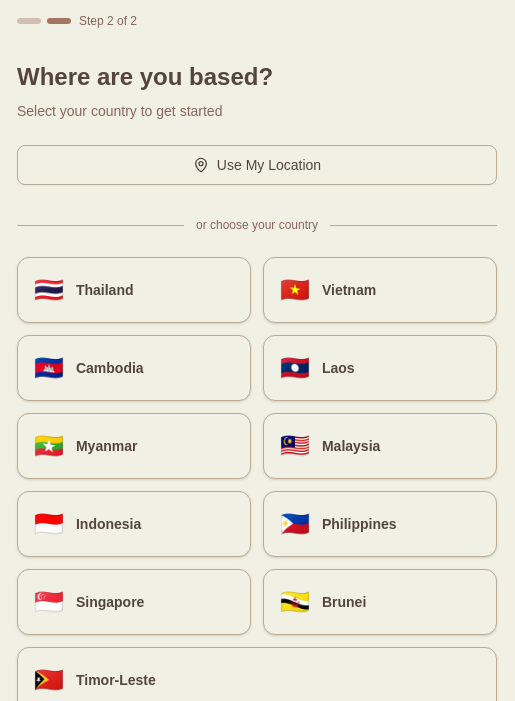
Scenario: HomeCitySection › shows validation error for unsupported countries
# select Thailand from country cards
Step 1. Click the text "Thailand" → point(105, 290), box 76,280 -> 134,300
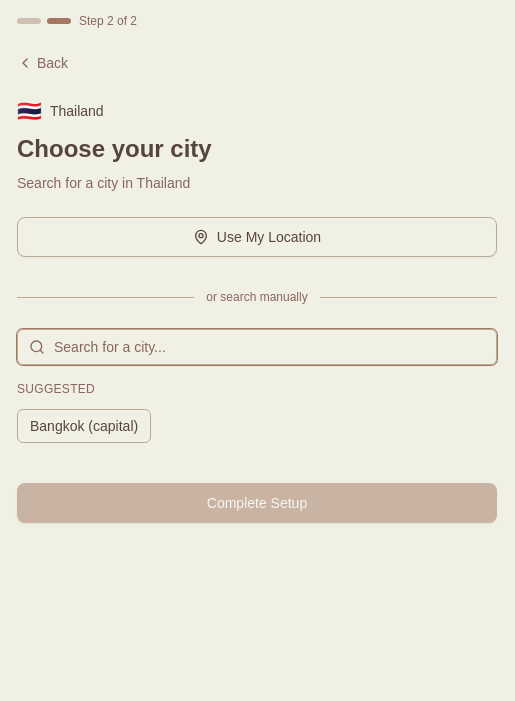
# enter a city not in Thailand
Step 2. Type "Japan" into the field with placeholder "Search for a city..." → point(257, 347), box 17,329 -> 497,365
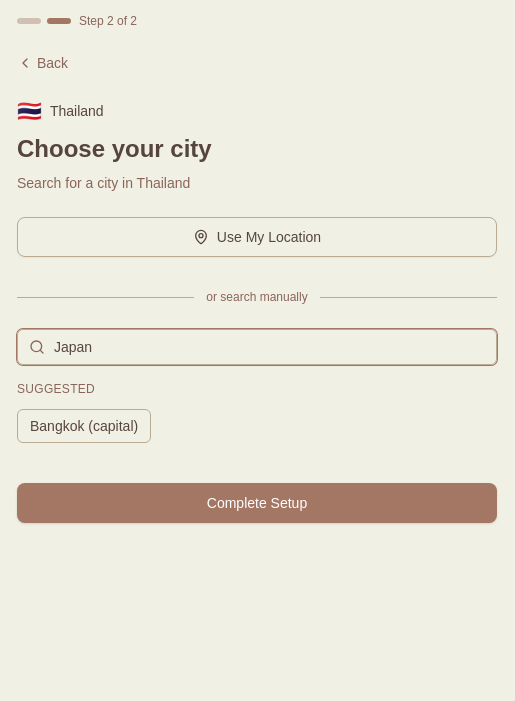
Step 3. Click the button "Complete Setup" → point(257, 503), box 17,483 -> 497,523
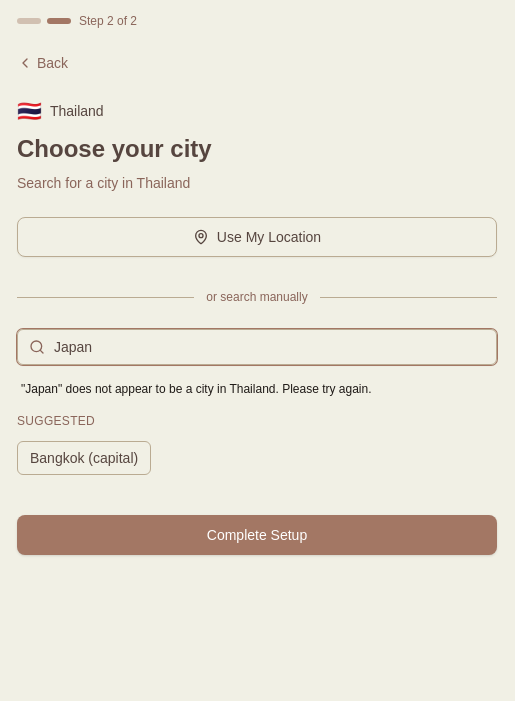
Expected: the text "\"Japan\" does not appear to be a city in Thailand. Please try again." is shown, 21,382 -> 372,396
